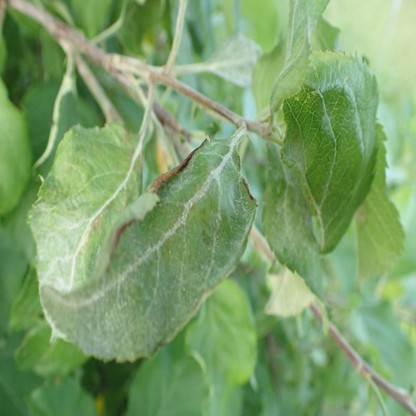powdery_mildew: (40, 130, 258, 364), (265, 146, 314, 258), (37, 207, 92, 289)
